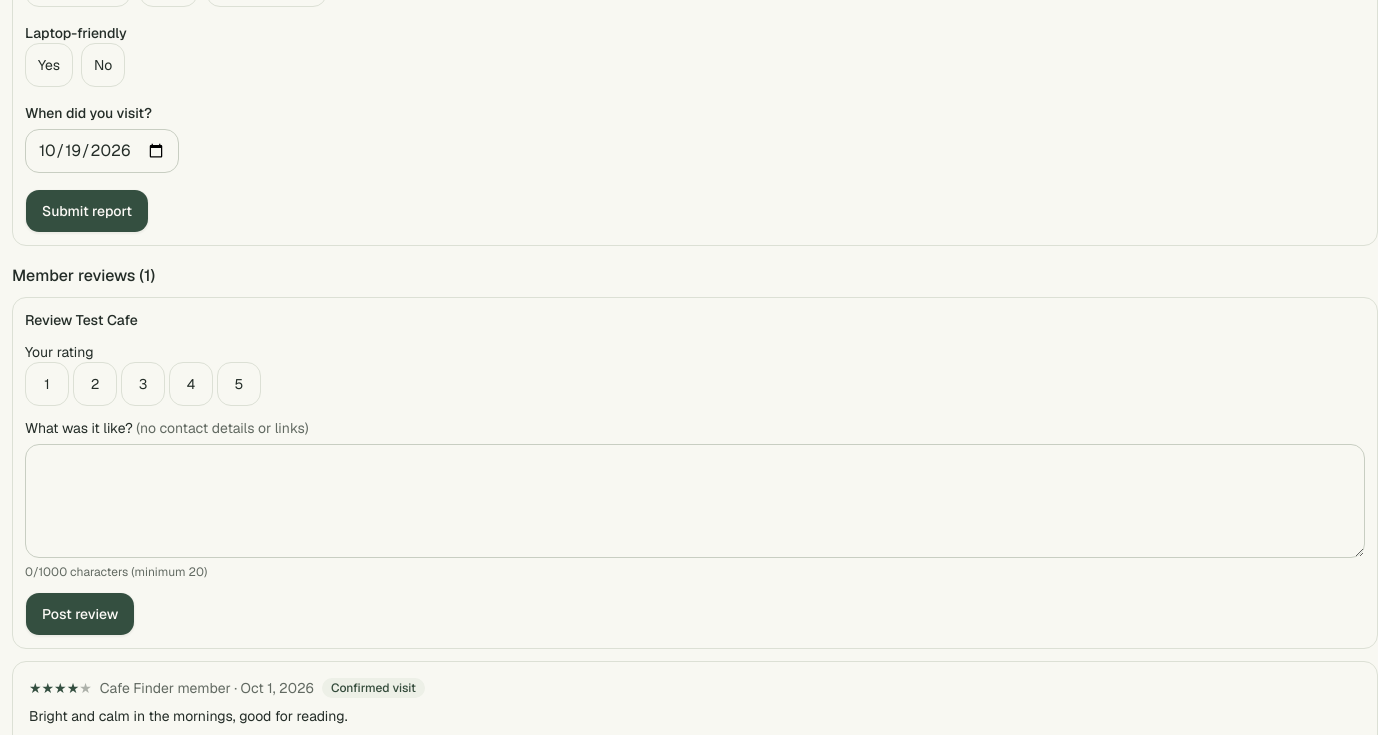
Test: CommunitySection › validates review length before sending
(page scrolled)
Click the radio button named "3 out of 5" at (143, 384), box [121,362,165,406]
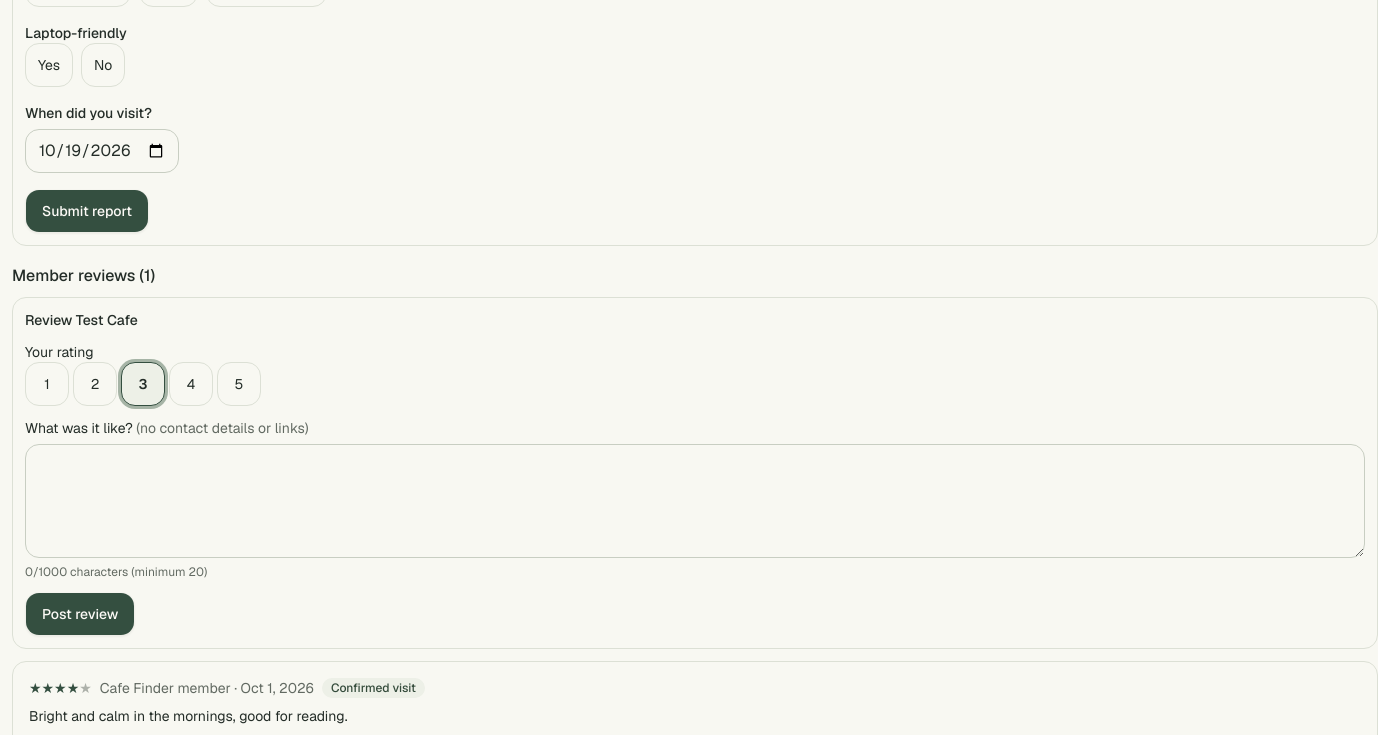
Type "Too short" into the text box at (695, 501), box [25,444,1365,558]
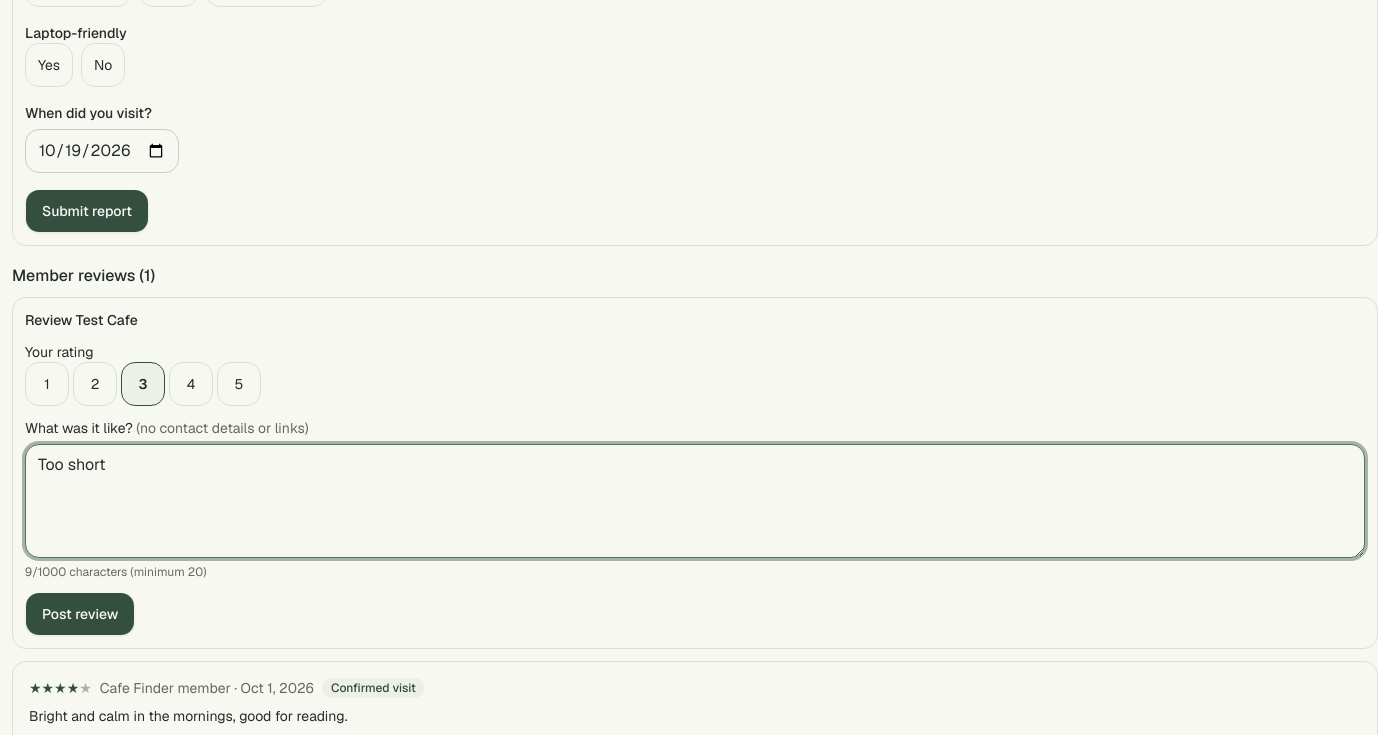
Click the button "Post review" at (80, 614), box [25,592,135,636]
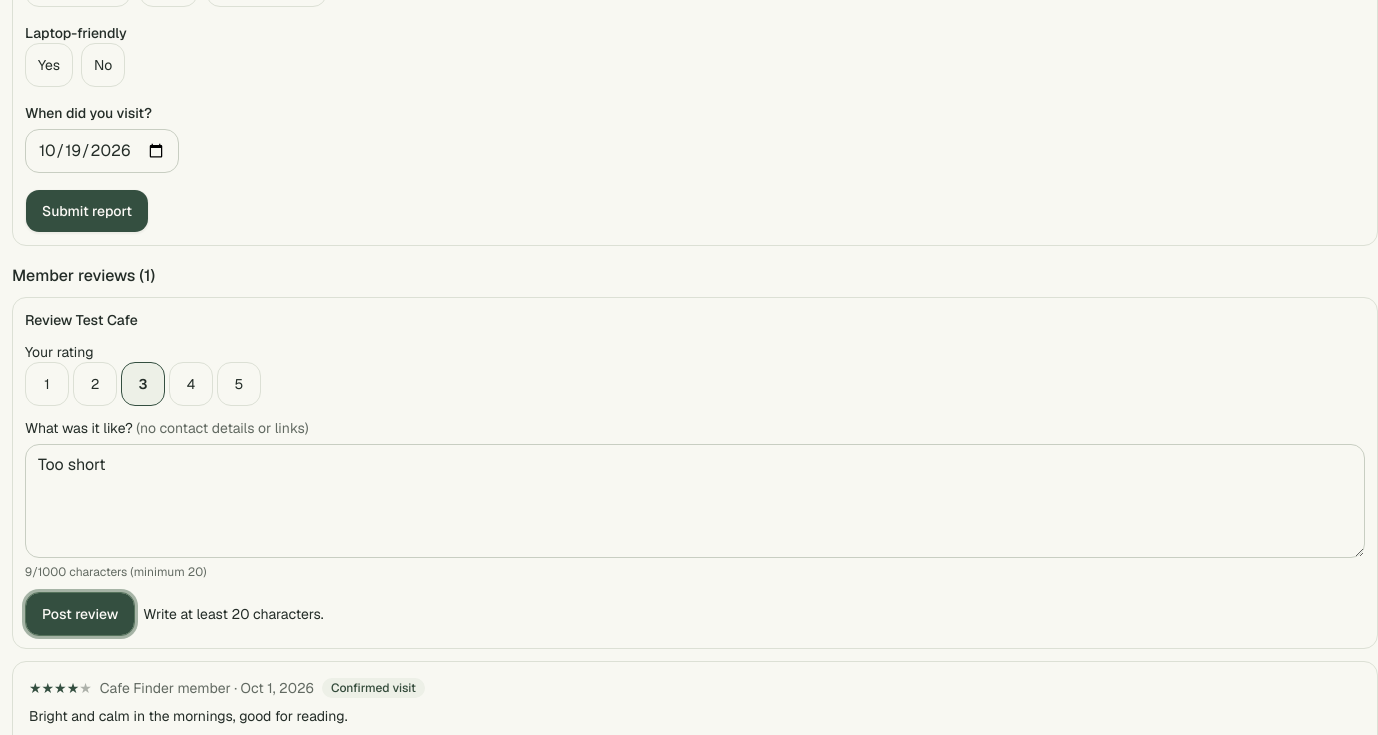
Now the message reads "Write at least 20 characters.", box [143,605,324,623]
